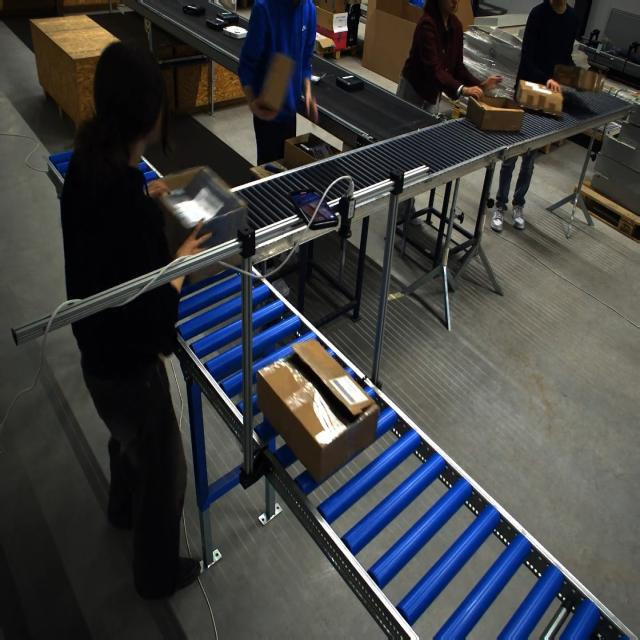box: (257, 340, 372, 482), (154, 164, 247, 278), (465, 94, 524, 132), (284, 130, 340, 169), (513, 80, 563, 117), (552, 64, 605, 93)
product: (336, 74, 364, 92), (222, 25, 249, 39), (205, 16, 229, 31), (216, 11, 239, 25), (182, 4, 205, 16)
